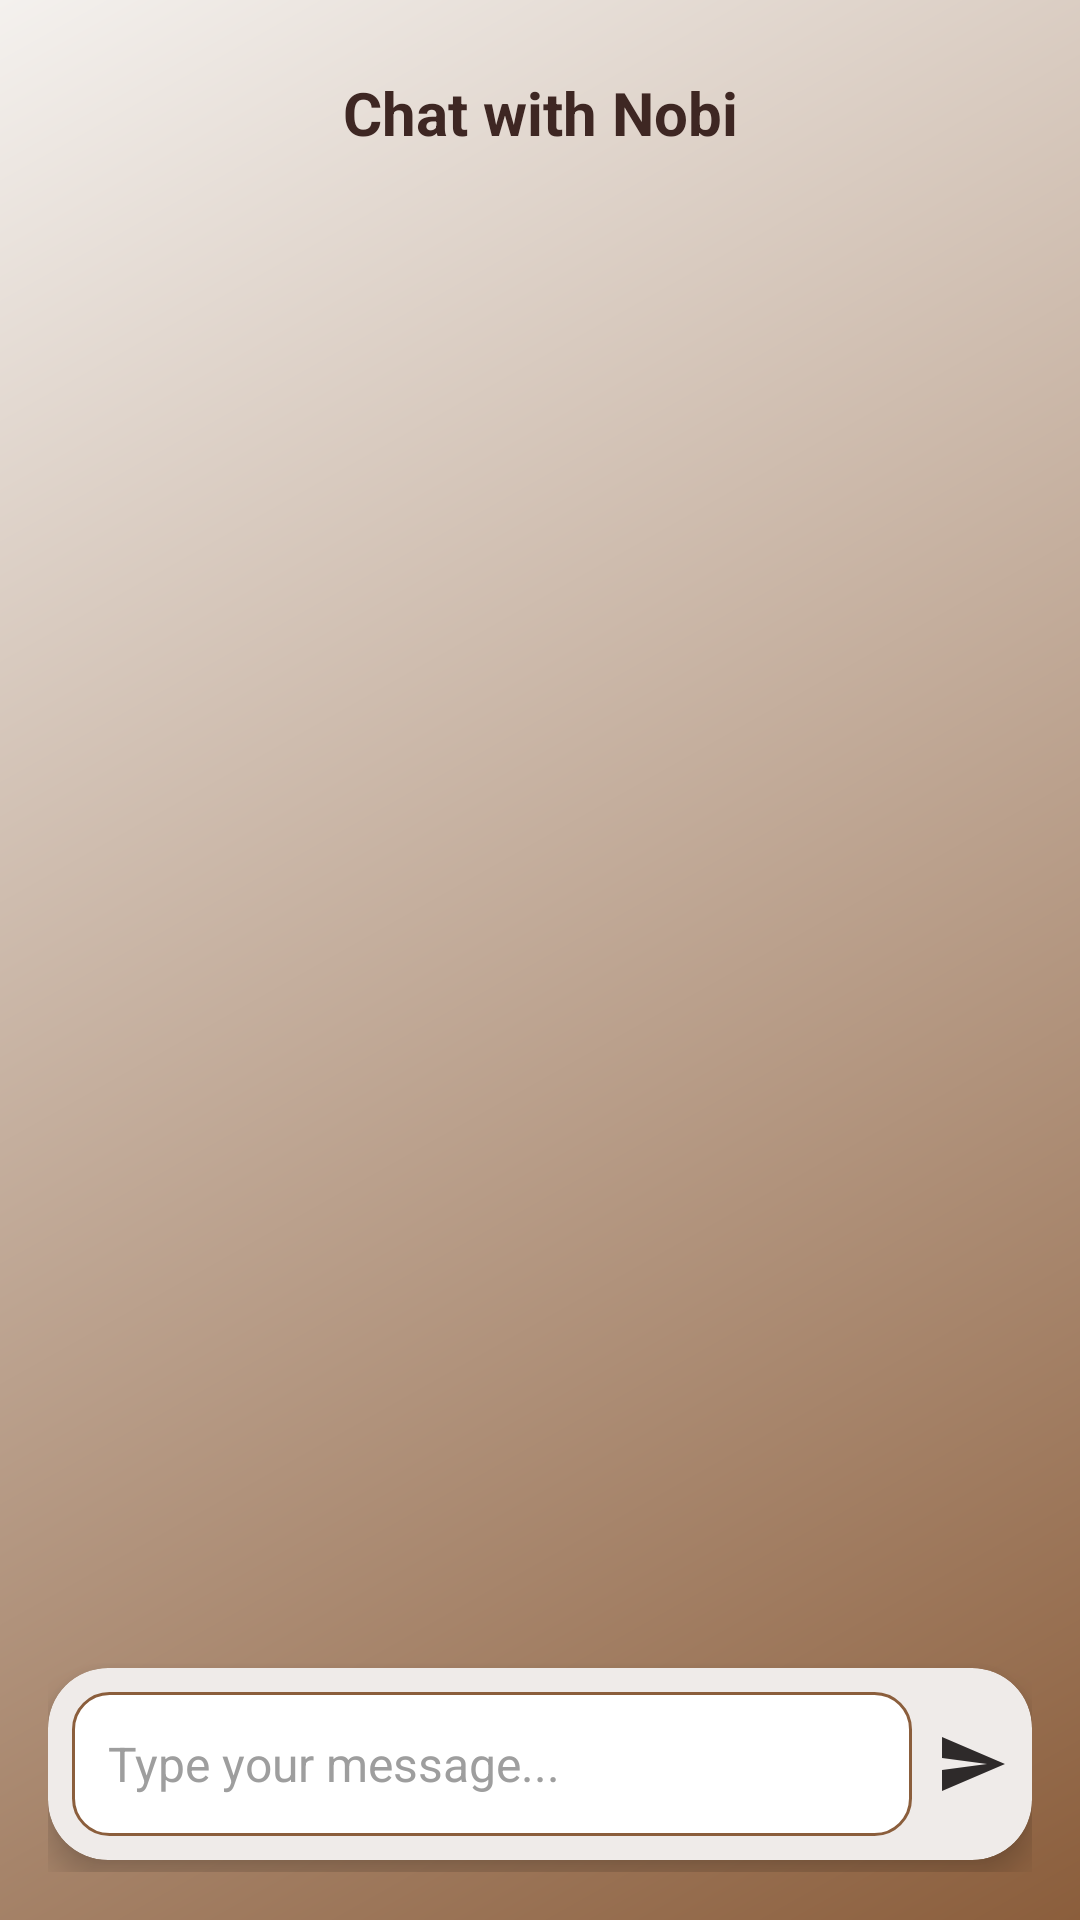

Where icons sit on this 1080 × 1920 app screen, as (x1, y1, x2, y2):
send: (942, 1737, 1005, 1791)
